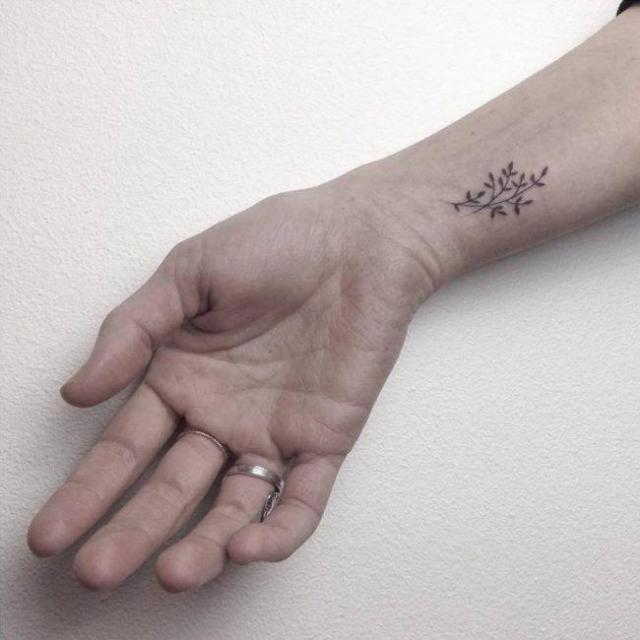hand: (27, 94, 451, 594)
